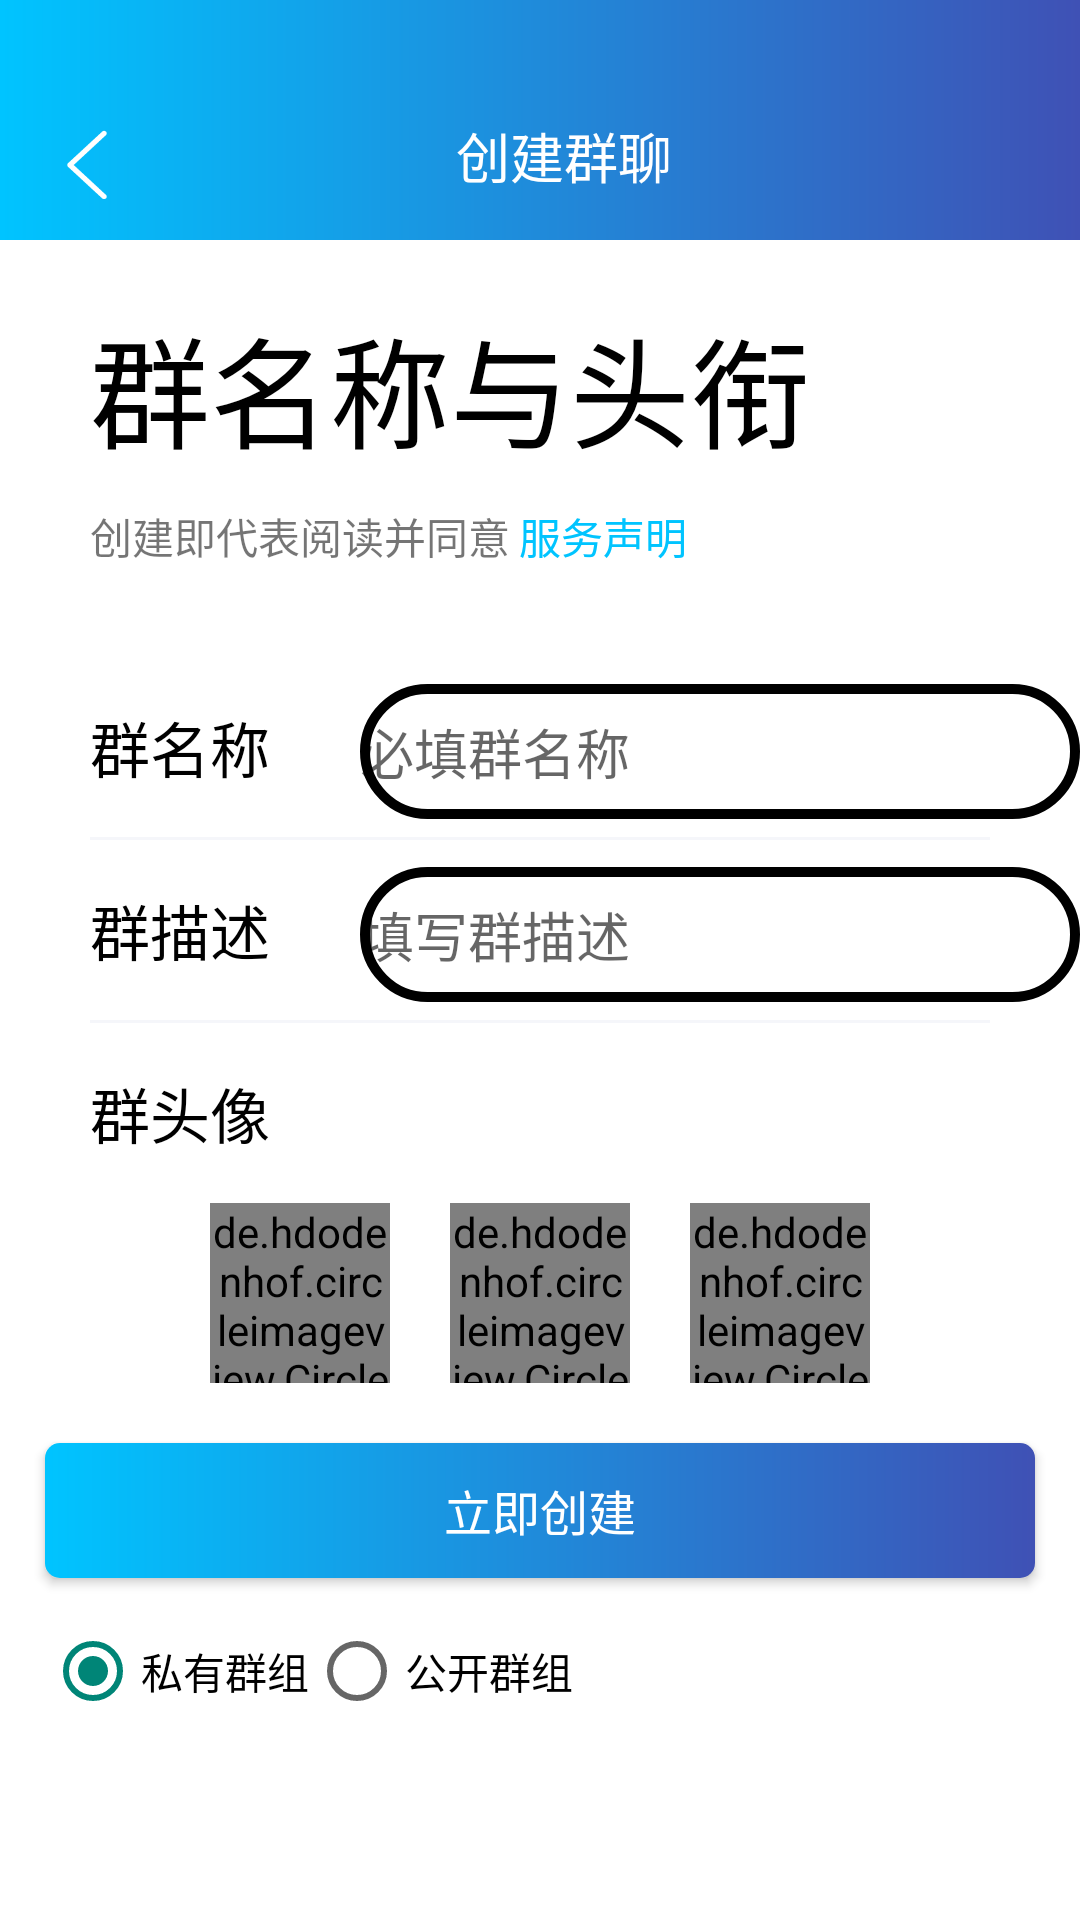

Locate icon controls on the screen. Image size 1080 x 1920, boxes as [x1=x1, y1=y1, x2=x2, y2=y2].
back: [x1=67, y1=130, x2=107, y2=199]
